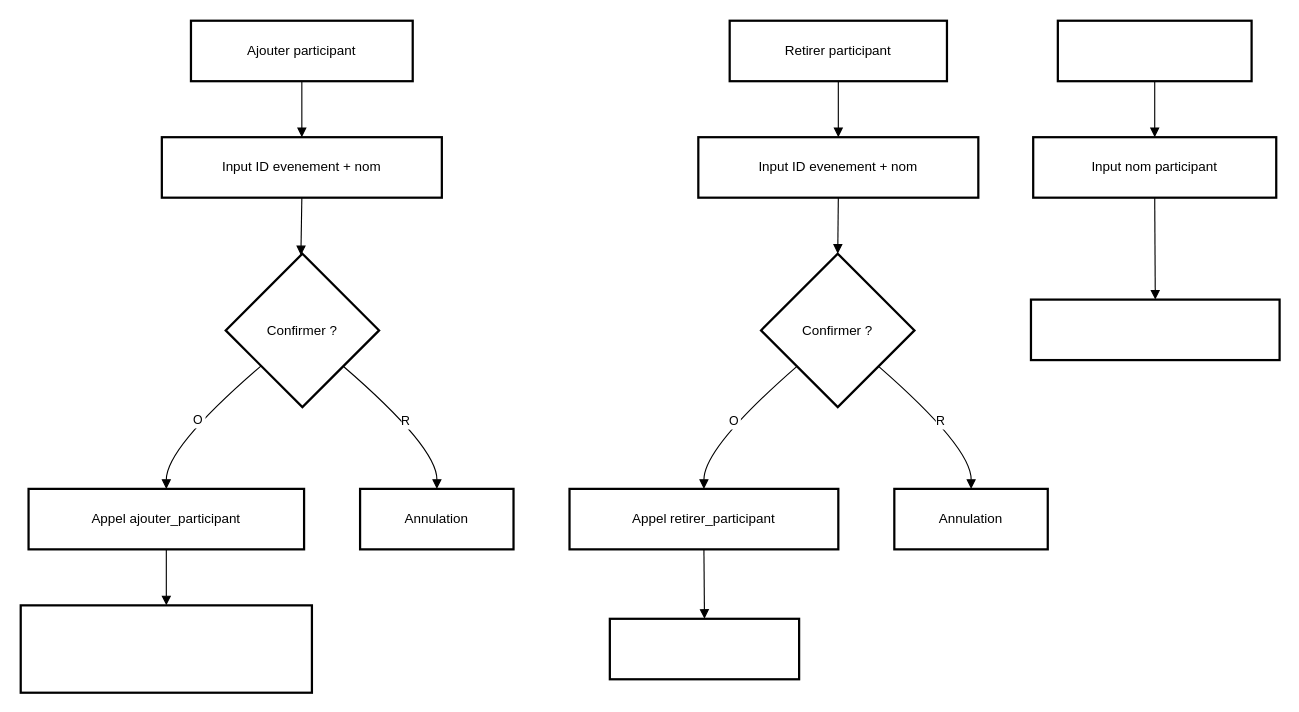
The diagram is 1299 pixels wide and 712 high, and some of its shapes have lost their labels. Here are the shapes that lost their labels. From the top down, the centre of each, then its label:
[1154,50]: Afficher agenda
[1154,329]: Appel afficher_agenda
[165,648]: Message succes ou conflit detecte
[704,648]: Message succes
